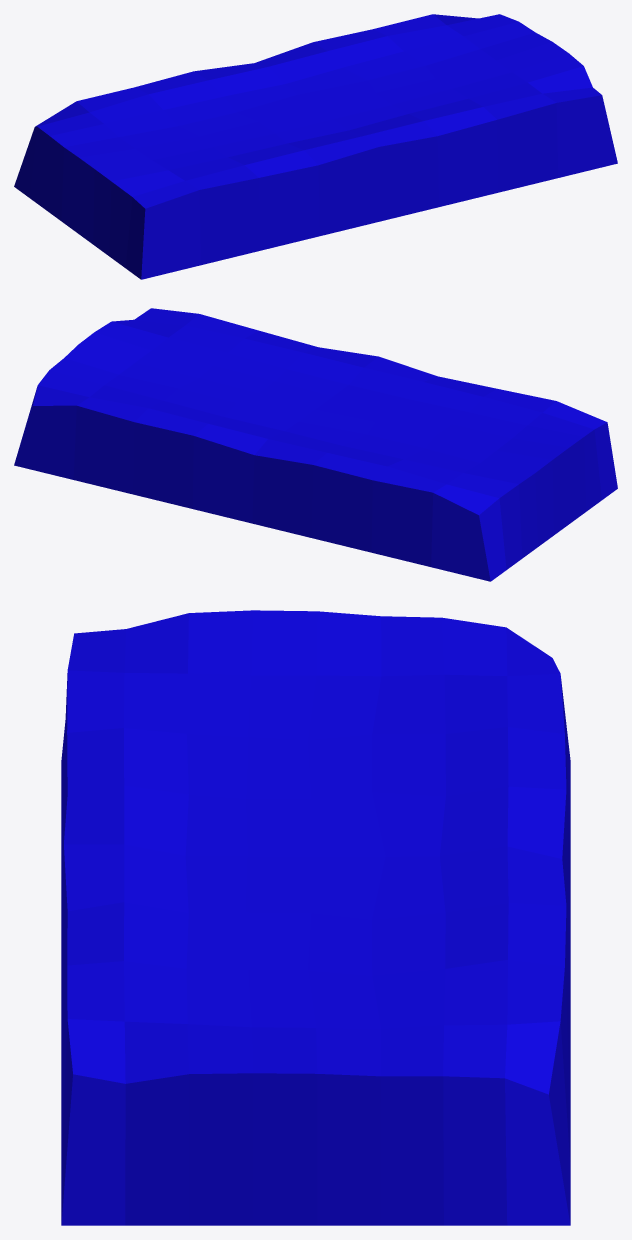
The model's file is matress.fbx.
3 views of the same model, one above another, from view 1: azimuth 30°, elevation 25°; view 2: azimuth 150°, elevation 25°; view 3: azimuth 270°, elevation 25° (orthographic). The views are drawn at different scales.
Visible parts, largest first — view 1: Cube; view 2: Cube; view 3: Cube.
Part boxes in pixels (box(x1,y1,x2,y2)): Cube: box(14, 14, 617, 279); Cube: box(14, 308, 617, 581); Cube: box(61, 610, 570, 1225).
Bounding box in the file's own units: 1290 × 195 × 596.
